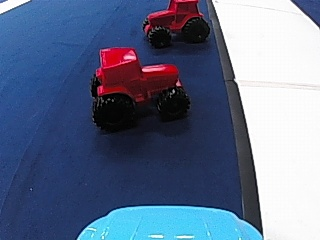tractor: (84, 43, 189, 131), (139, 0, 211, 47)
